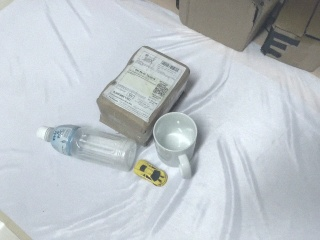bottle: (36, 123, 137, 171)
box: (97, 46, 191, 146), (176, 1, 285, 51), (261, 1, 320, 74)
cup: (151, 111, 200, 179)
toy_car: (133, 159, 168, 187)
